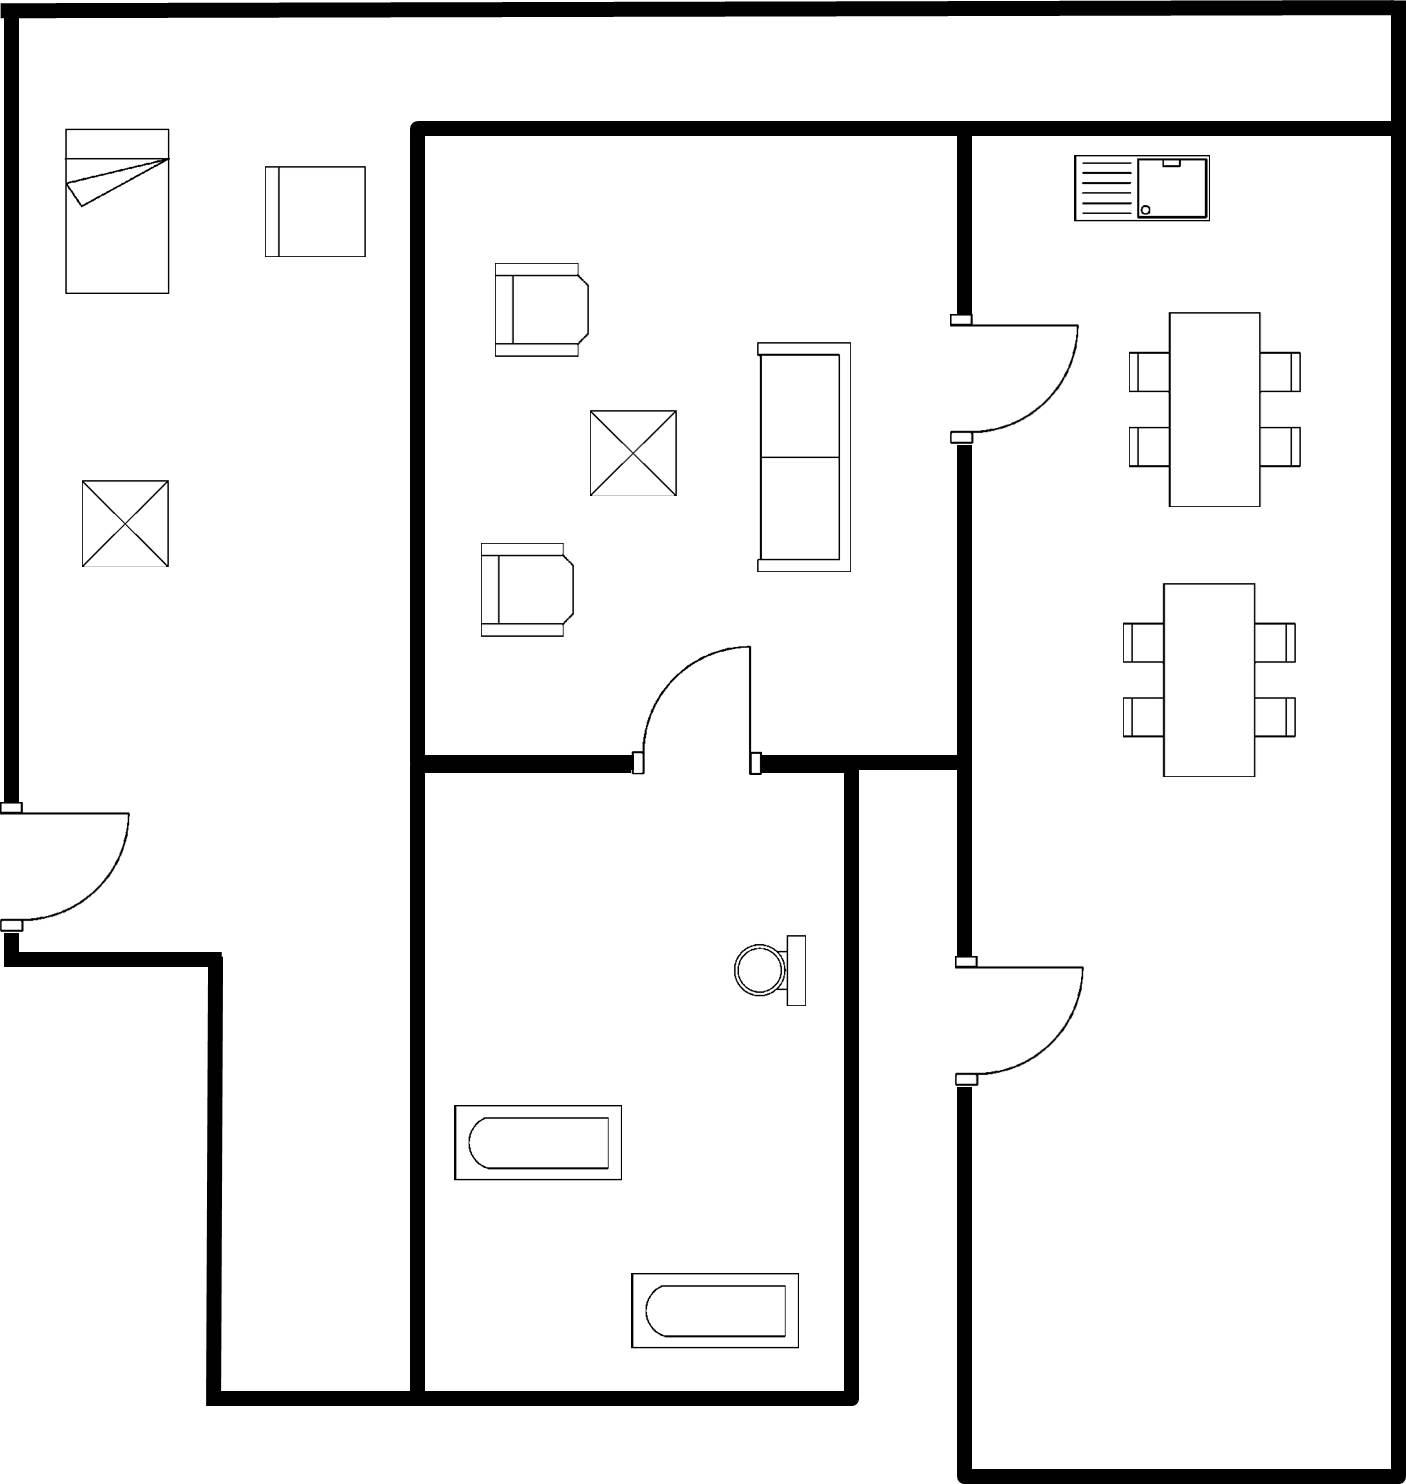bed: (48, 118, 178, 307)
dining_table: (1113, 571, 1310, 790), (1117, 300, 1308, 519)
sink: (1061, 145, 1218, 235)
sofa: (739, 328, 864, 584)
toilet: (723, 925, 817, 1014)
tub: (443, 1089, 647, 1191), (620, 1263, 811, 1358)
